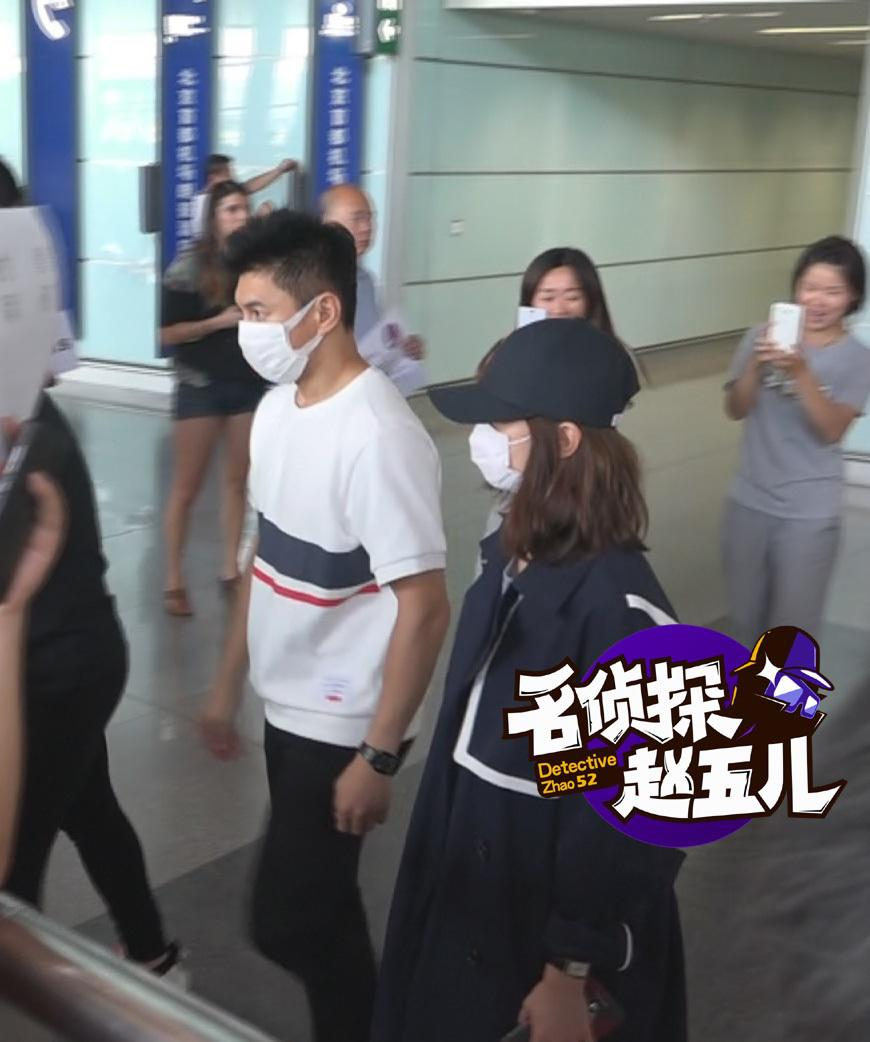NONE: (532, 283, 587, 340), (333, 196, 378, 256), (796, 276, 842, 329), (209, 187, 255, 238)
OK: (232, 287, 329, 384), (468, 394, 547, 491)
